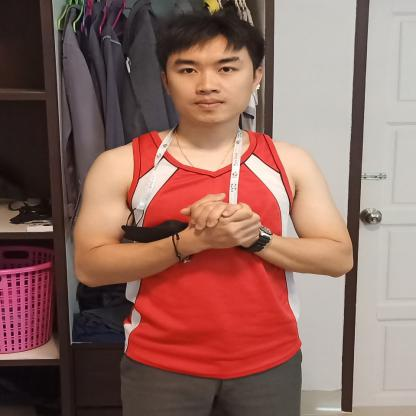Grieve: (102, 189, 350, 302)
